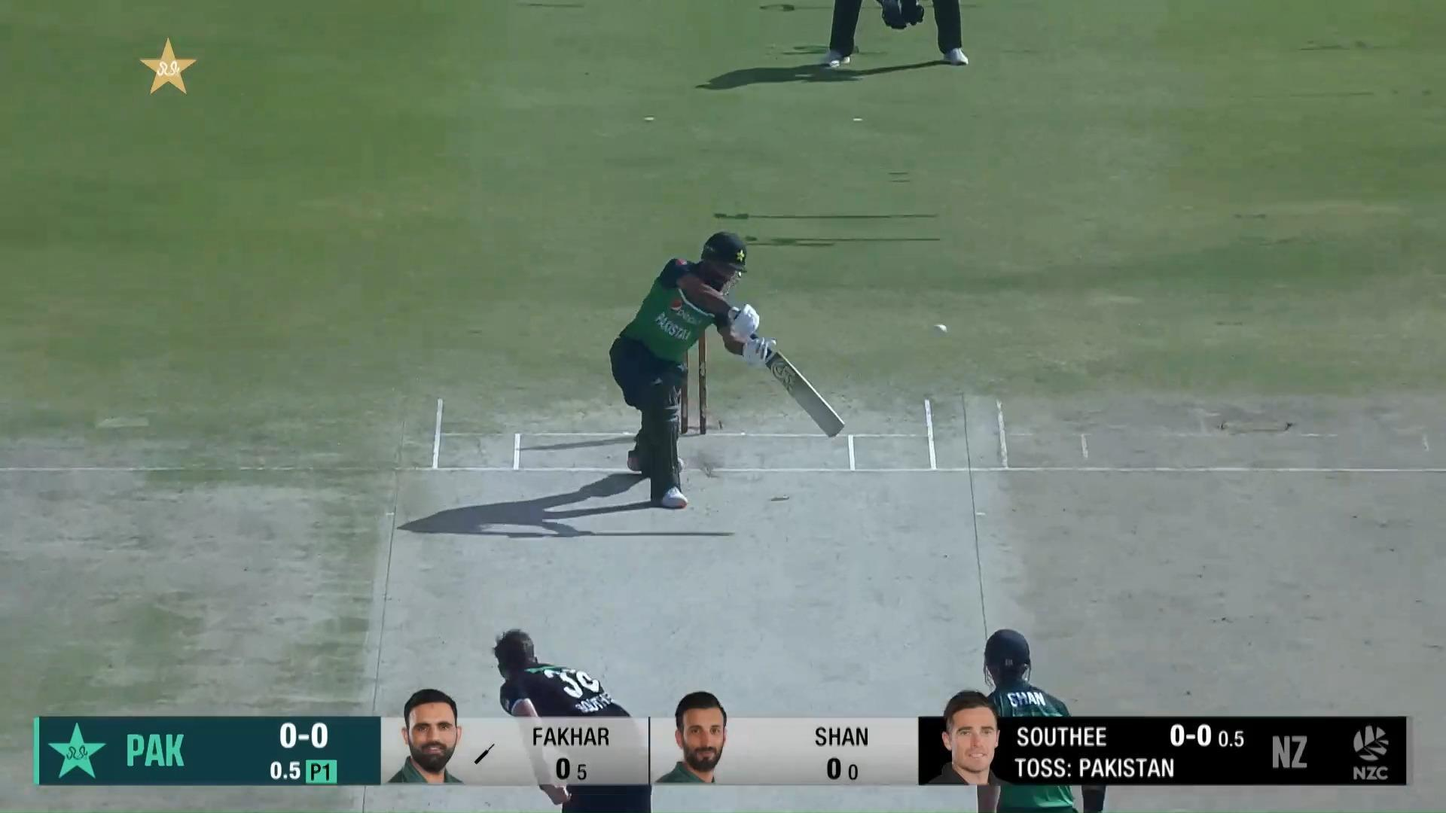BM 1: (608, 230, 847, 510)
BO: (493, 628, 652, 813)
